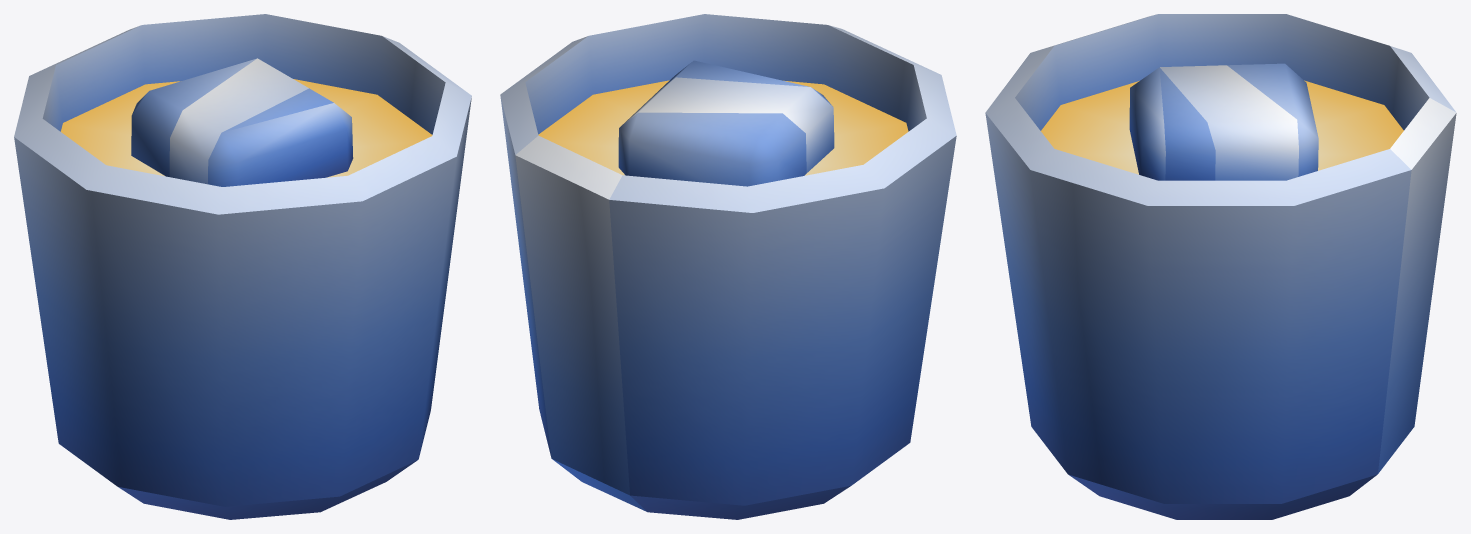
The model's file is m_WhiskySour01.fbx.
The picture shows the model from 3 angles, left to right: view 1: azimuth 30°, elevation 25°; view 2: azimuth 150°, elevation 25°; view 3: azimuth 270°, elevation 25°; orthographic projection.
Visible parts, largest first — view 1: m_WhiskySour01; view 2: m_WhiskySour01; view 3: m_WhiskySour01.
Boxes of the visible parts, <box> form: m_WhiskySour01: <box>14,14,471,519</box>; m_WhiskySour01: <box>500,14,956,519</box>; m_WhiskySour01: <box>985,14,1456,519</box>.
Size of the model in its own units: 13.58 by 12.13 by 14.28.
